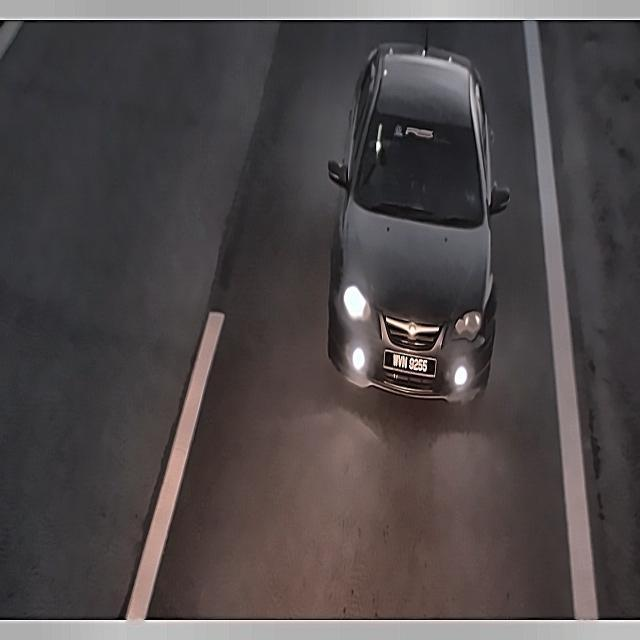car: (378, 340, 442, 382)
